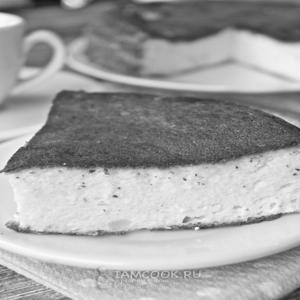omelet: (9, 50, 295, 273)
